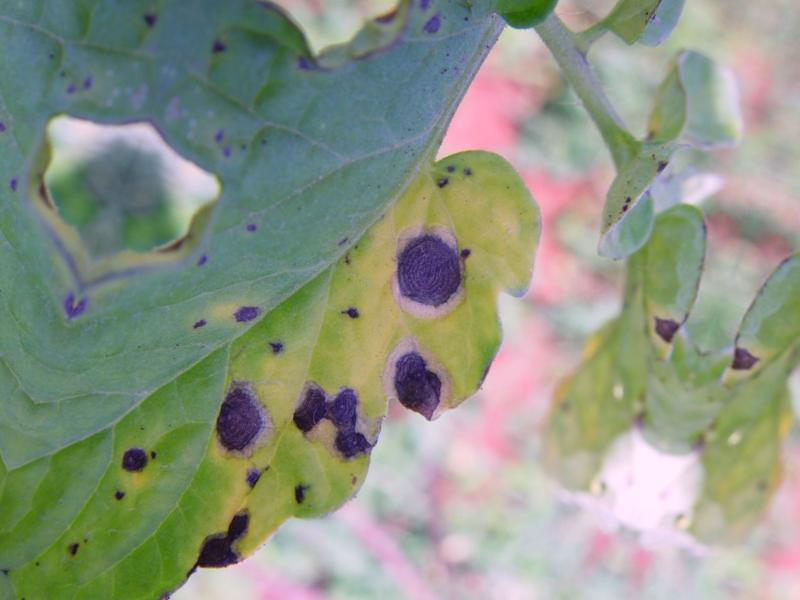Tomato Early blight leaf: (0, 0, 658, 600), (597, 196, 726, 368)
